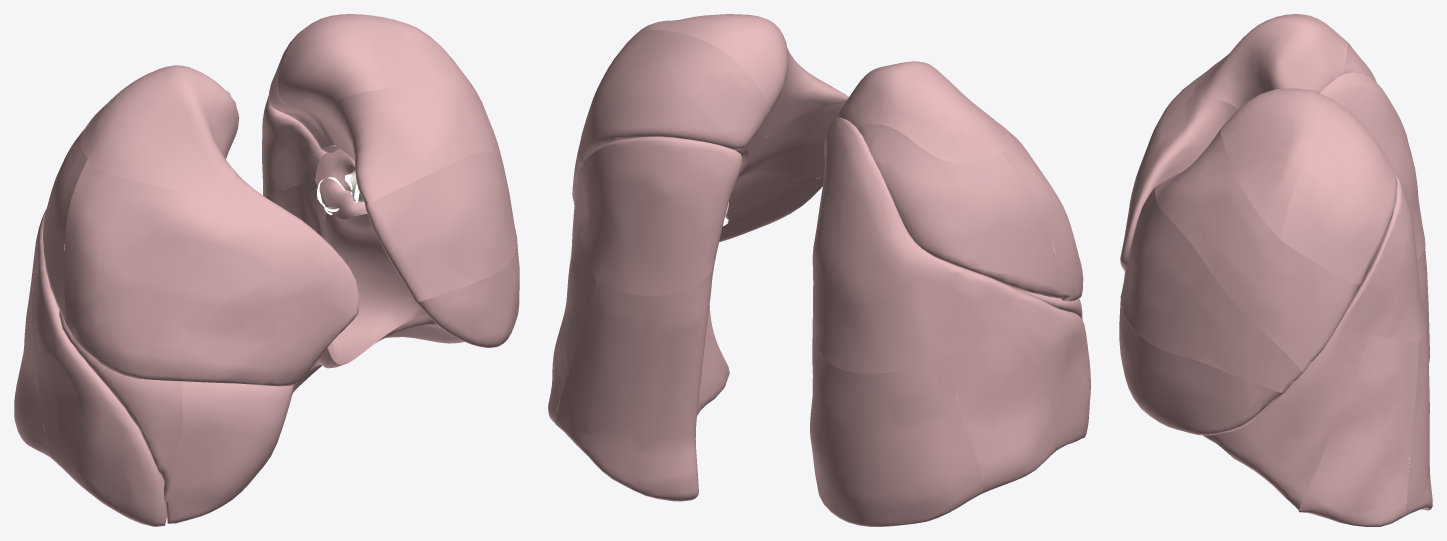
File: optimized-lung.glb
3 renders of one model, left to right at view 1: azimuth 30°, elevation 25°; view 2: azimuth 150°, elevation 25°; view 3: azimuth 270°, elevation 25°, orthographic. The views are drawn at different scales.
Parts seen in each view (by area): view 1: VH_F_right_anterior_bronchopulmonary_segm, VH_F_right_anterior_basal_bronchopulmonary_segment, VH_F_lingula_superior_bronchopulmonary_segment, VH_F_right_apical_bronchopulmonary_segment, VH_F_left_anterior_bronchopulmonary_segment, VH_F_left_apical_bronchopulmonary_segment, VH_F_right_medial_bronchopulmonary_segment, VH_F_left_medial_basal_bronchopulmonary_segment, VH_F_lingula_inferior_bronchopulmonary_segment, VH_F_right_lateral_bronchopulmonary_segmennt, VH_F_left_superior_bronchopulmonary_segment, VH_F_right_posterior_bronchopulmonary_segment (+6 smaller); view 2: VH_F_right_superior_bronchopulmonary_segment, VH_F_left_posterior_basal_bronchopulmonary_segment, VH_F_right_posterior_basal_bronchopulmonary_segment, VH_F_left_superior_bronchopulmonary_segment, VH_F_right_posterior_bronchopulmonary_segment, VH_F_left_posterior_bronchopulmonary_segment, VH_F_right_lateral_basal_bronchopulmonary_segment, VH_F_right_apical_bronchopulmonary_segment, VH_F_right_anterior_basal_bronchopulmonary_segment, VH_F_left_apical_bronchopulmonary_segment, VH_F_lingula_inferior_bronchopulmonary_segment, VH_F_lingula_superior_bronchopulmonary_segment (+3 smaller); view 3: VH_F_left_anterior_bronchopulmonary_segment, VH_F_lingula_superior_bronchopulmonary_segment, VH_F_left_lateral_basal_bronchopulmonary_segment, VH_F_left_posterior_bronchopulmonary_segment, VH_F_left_anterior_basal_bronchopulmonary_segment, VH_F_lingula_inferior_bronchopulmonary_segment, VH_F_left_apical_bronchopulmonary_segment, VH_F_right_apical_bronchopulmonary_segment, VH_F_left_superior_bronchopulmonary_segment, VH_F_right_anterior_bronchopulmonary_segm, VH_F_right_superior_bronchopulmonary_segment, VH_F_left_posterior_basal_bronchopulmonary_segment (+2 smaller).
Boxes of the visible parts, left/top/right/bottom form: VH_F_right_anterior_bronchopulmonary_segm: left=64, top=159, right=359, bottom=386; VH_F_right_anterior_basal_bronchopulmonary_segment: left=31, top=265, right=180, bottom=526; VH_F_lingula_superior_bronchopulmonary_segment: left=365, top=151, right=517, bottom=302; VH_F_right_apical_bronchopulmonary_segment: left=81, top=65, right=239, bottom=193; VH_F_left_anterior_bronchopulmonary_segment: left=329, top=78, right=502, bottom=204; VH_F_left_apical_bronchopulmonary_segment: left=278, top=14, right=470, bottom=145; VH_F_right_medial_bronchopulmonary_segment: left=165, top=381, right=293, bottom=523; VH_F_left_medial_basal_bronchopulmonary_segment: left=324, top=205, right=425, bottom=364; VH_F_lingula_inferior_bronchopulmonary_segment: left=416, top=241, right=519, bottom=347; VH_F_right_lateral_bronchopulmonary_segmennt: left=59, top=310, right=182, bottom=499; VH_F_left_superior_bronchopulmonary_segment: left=262, top=95, right=326, bottom=197; VH_F_right_posterior_bronchopulmonary_segment: left=43, top=129, right=87, bottom=325; VH_F_right_superior_bronchopulmonary_segment: left=812, top=118, right=1012, bottom=373; VH_F_left_posterior_basal_bronchopulmonary_segment: left=555, top=265, right=729, bottom=501; VH_F_right_posterior_basal_bronchopulmonary_segment: left=810, top=325, right=983, bottom=526; VH_F_left_superior_bronchopulmonary_segment: left=576, top=136, right=742, bottom=295; VH_F_right_posterior_bronchopulmonary_segment: left=857, top=124, right=1064, bottom=298; VH_F_left_posterior_bronchopulmonary_segment: left=579, top=29, right=769, bottom=164; VH_F_right_lateral_basal_bronchopulmonary_segment: left=948, top=322, right=1058, bottom=493; VH_F_right_apical_bronchopulmonary_segment: left=836, top=61, right=1012, bottom=163; VH_F_right_anterior_basal_bronchopulmonary_segment: left=999, top=287, right=1090, bottom=449; VH_F_left_apical_bronchopulmonary_segment: left=634, top=14, right=788, bottom=113; VH_F_lingula_inferior_bronchopulmonary_segment: left=719, top=171, right=823, bottom=242; VH_F_lingula_superior_bronchopulmonary_segment: left=739, top=101, right=845, bottom=178; VH_F_left_anterior_bronchopulmonary_segment: left=1154, top=129, right=1360, bottom=372; VH_F_lingula_superior_bronchopulmonary_segment: left=1120, top=188, right=1303, bottom=393; VH_F_left_lateral_basal_bronchopulmonary_segment: left=1299, top=335, right=1418, bottom=526; VH_F_left_posterior_bronchopulmonary_segment: left=1280, top=100, right=1397, bottom=284; VH_F_left_anterior_basal_bronchopulmonary_segment: left=1202, top=330, right=1369, bottom=510; VH_F_lingula_inferior_bronchopulmonary_segment: left=1119, top=299, right=1283, bottom=435; VH_F_left_apical_bronchopulmonary_segment: left=1220, top=88, right=1333, bottom=239; VH_F_right_apical_bronchopulmonary_segment: left=1194, top=14, right=1348, bottom=109; VH_F_left_superior_bronchopulmonary_segment: left=1335, top=173, right=1426, bottom=342; VH_F_right_anterior_bronchopulmonary_segm: left=1120, top=71, right=1238, bottom=272; VH_F_right_superior_bronchopulmonary_segment: left=1319, top=71, right=1424, bottom=259; VH_F_left_posterior_basal_bronchopulmonary_segment: left=1404, top=328, right=1432, bottom=516.
Bounding box in the file's own units: 0.2511 × 0.223 × 0.1526.
